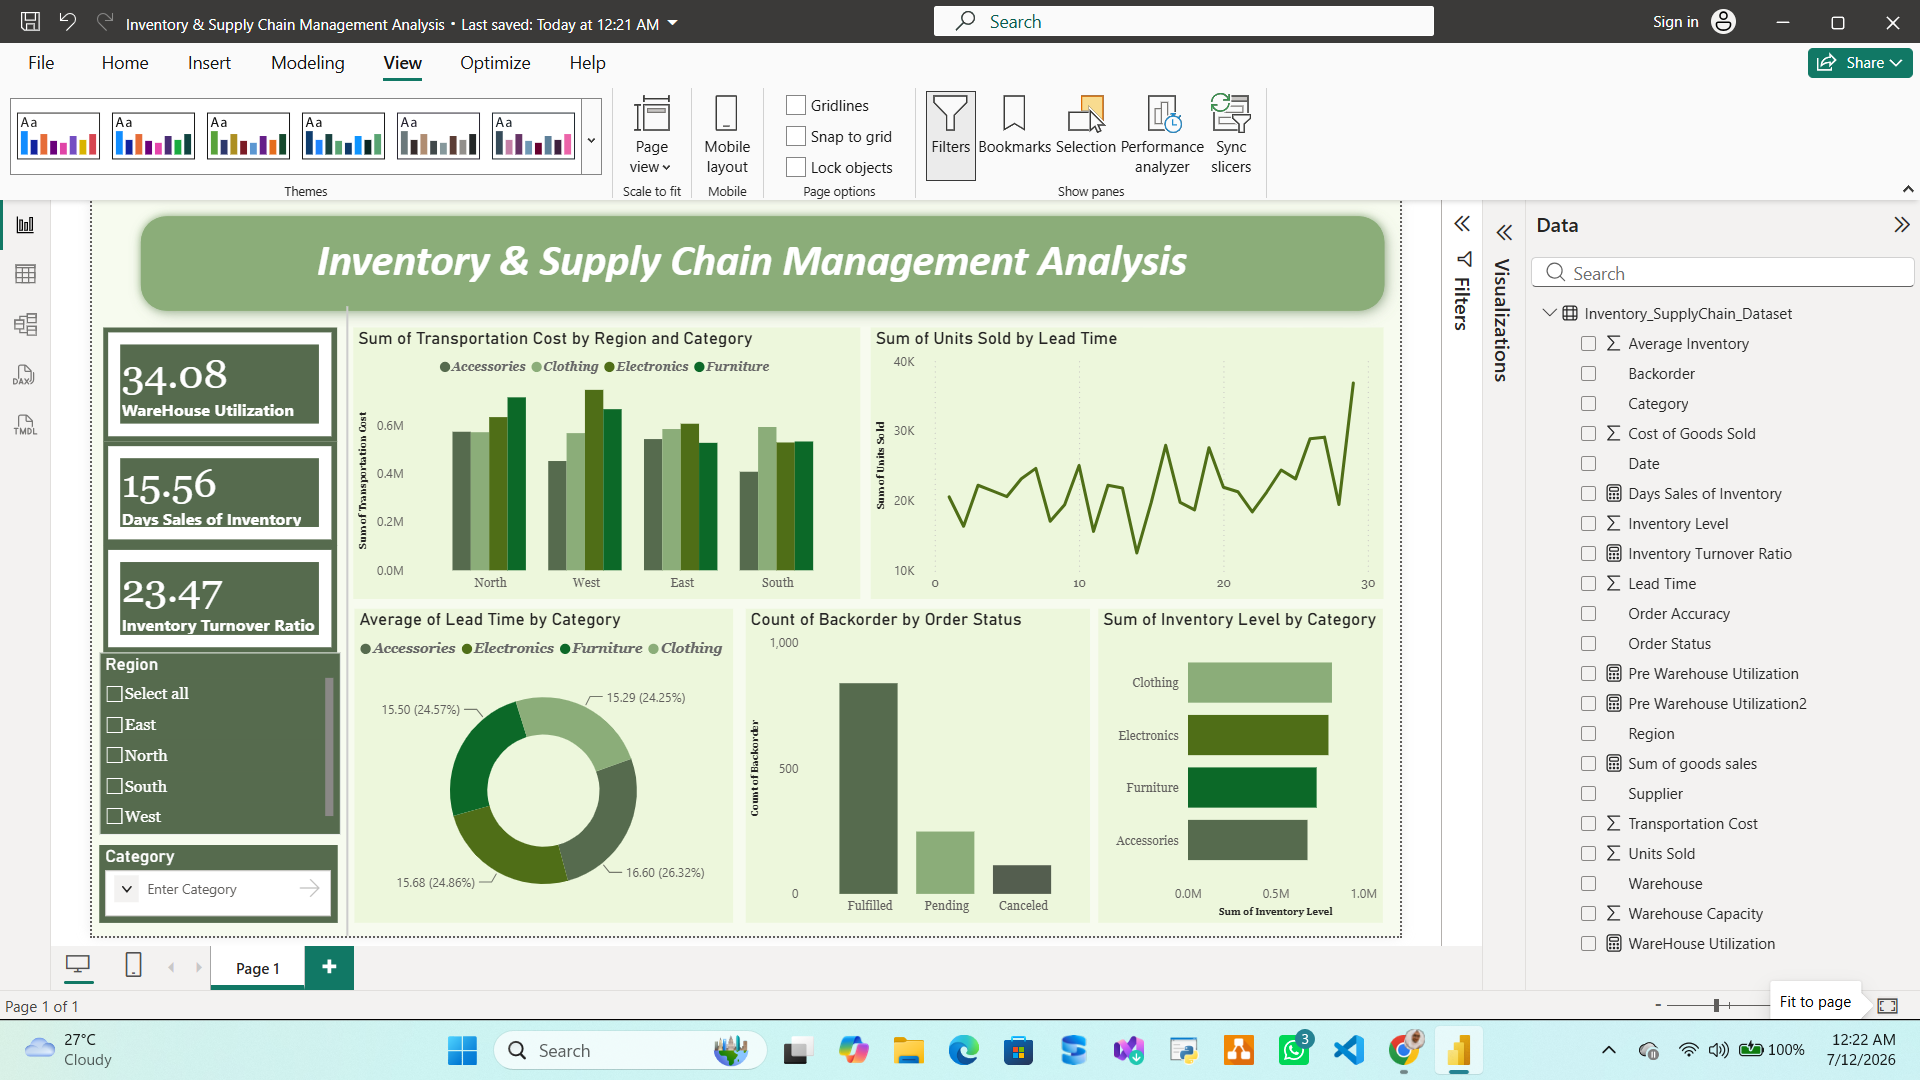

The page's visual inventory and layout, read from the dashboard file:
{"tool":"powerbi","page":{"name":"Page 1","canvas":[1280,720],"ordinal":0},"visuals":[{"type":"shape","box":[31.4,0,1248.6,124.3],"z":0},{"type":"textbox","box":[215.7,28.6,878.6,75.7],"z":1000},{"type":"shape","box":[242.9,104.3,12.9,615.7],"z":2000},{"type":"cardVisual","fields":{"Data":["Inventory_SupplyChain_Dataset.WareHouse Utilization"]},"box":[11.4,124.3,228.6,111.4],"z":3000},{"type":"cardVisual","fields":{"Data":["Inventory_SupplyChain_Dataset.Days Sales of Inventory"]},"box":[11.4,235.7,228.6,101.4],"z":4000},{"type":"cardVisual","fields":{"Data":["Inventory_SupplyChain_Dataset.Inventory Turnover Ratio"]},"box":[11.4,337.1,228.6,105.7],"z":5000},{"type":"listSlicer","fields":{"Values":["Inventory_SupplyChain_Dataset.Region"]},"box":[7.1,442.9,235.7,178.6],"z":6000},{"type":"textSlicer","fields":{"Values":["Inventory_SupplyChain_Dataset.Category"]},"box":[7.1,631.4,232.9,75.7],"z":7000},{"type":"clusteredColumnChart","fields":{"Series":["Inventory_SupplyChain_Dataset.Category"],"Category":["Inventory_SupplyChain_Dataset.Region"],"Y":["Sum(Inventory_SupplyChain_Dataset.Transportation Cost)"]},"box":[255.7,124.3,495.7,265.7],"z":8000},{"type":"lineChart","fields":{"Y":["Sum(Inventory_SupplyChain_Dataset.Units Sold)"],"Category":["Inventory_SupplyChain_Dataset.Lead Time"]},"box":[761.4,124.3,501.4,265.7],"z":9000},{"type":"donutChart","fields":{"Y":["Avg(Inventory_SupplyChain_Dataset.Lead Time)"],"Category":["Inventory_SupplyChain_Dataset.Category"]},"box":[257.1,400,370,307.1],"z":9001},{"type":"columnChart","fields":{"Y":["CountNonNull(Inventory_SupplyChain_Dataset.Backorder)"],"Category":["Inventory_SupplyChain_Dataset.Order Status"]},"box":[640,400,337.1,307.1],"z":9002},{"type":"clusteredBarChart","fields":{"Y":["Sum(Inventory_SupplyChain_Dataset.Inventory Level)"],"Category":["Inventory_SupplyChain_Dataset.Category"]},"box":[984.3,400,278.6,307.1],"z":9003}]}

Visuals, with their boxes on the page's 1280x720 design canvas (x1, y1, x2, y2). These are canvas units, not pixel positions in the 1920x1080 screenshot, which may show the page scaled, cropped or inside an application window:
shape: 31 0 1280 124
textbox: 216 29 1094 104
shape: 243 104 256 720
cardVisual - Inventory_SupplyChain_Dataset.WareHouse Utilization: 11 124 240 236
cardVisual - Inventory_SupplyChain_Dataset.Days Sales of Inventory: 11 236 240 337
cardVisual - Inventory_SupplyChain_Dataset.Inventory Turnover Ratio: 11 337 240 443
listSlicer - Inventory_SupplyChain_Dataset.Region: 7 443 243 622
textSlicer - Inventory_SupplyChain_Dataset.Category: 7 631 240 707
clusteredColumnChart - Inventory_SupplyChain_Dataset.Category x Inventory_SupplyChain_Dataset.Region: 256 124 751 390
lineChart - Sum(Inventory_SupplyChain_Dataset.Units Sold) x Inventory_SupplyChain_Dataset.Lead Time: 761 124 1263 390
donutChart - Avg(Inventory_SupplyChain_Dataset.Lead Time) x Inventory_SupplyChain_Dataset.Category: 257 400 627 707
columnChart - CountNonNull(Inventory_SupplyChain_Dataset.Backorder) x Inventory_SupplyChain_Dataset.Order Status: 640 400 977 707
clusteredBarChart - Sum(Inventory_SupplyChain_Dataset.Inventory Level) x Inventory_SupplyChain_Dataset.Category: 984 400 1263 707
